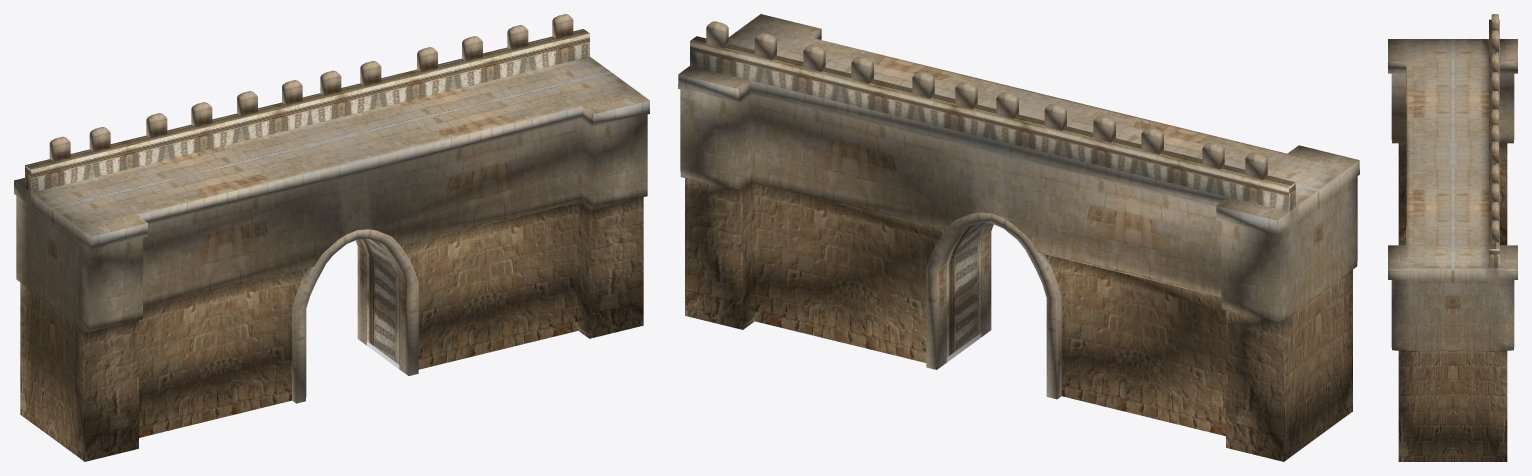
The model's file is entrance.dae.
3 views of the same model, side by side, from view 1: azimuth 30°, elevation 25°; view 2: azimuth 150°, elevation 25°; view 3: azimuth 270°, elevation 25° (orthographic). The views are drawn at different scales.
Parts seen in each view (by area): view 1: meshU3D; view 2: meshU3D; view 3: meshU3D.
Part boxes in pixels (x1,y1,x2,y2): meshU3D: (14, 14, 649, 461); meshU3D: (678, 14, 1359, 461); meshU3D: (1388, 14, 1517, 461).
Size of the model in its own units: 557 by 261 by 133.
